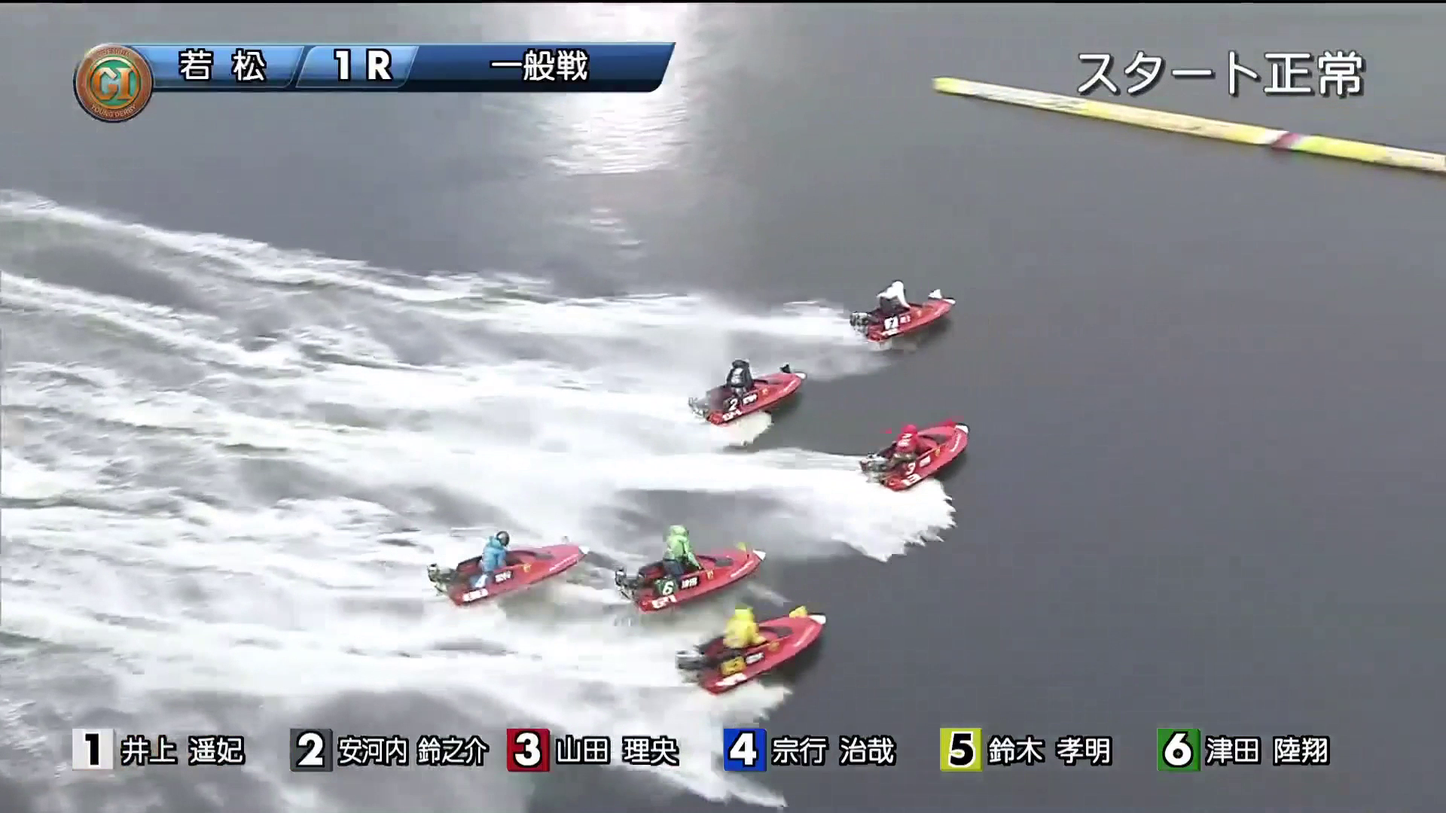１号艇: (866, 282, 1003, 336)
２号艇: (683, 354, 812, 414)
３号艇: (866, 429, 1006, 476)
４号艇: (630, 530, 756, 595)
５号艇: (426, 541, 550, 596)
６号艇: (706, 616, 806, 673)
